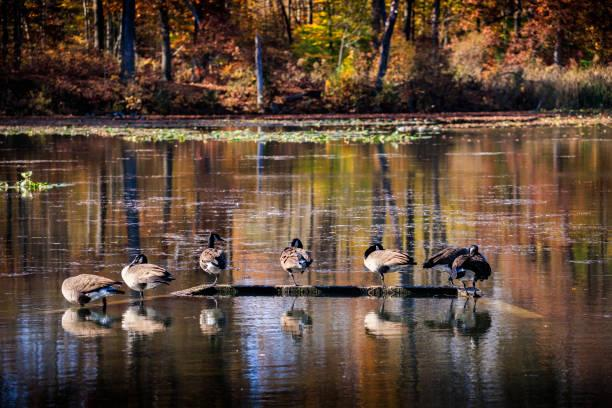Canadian-Goose: (421, 240, 490, 290), (360, 236, 415, 291), (56, 268, 118, 306), (123, 253, 170, 294), (277, 235, 312, 283), (200, 231, 231, 280)
